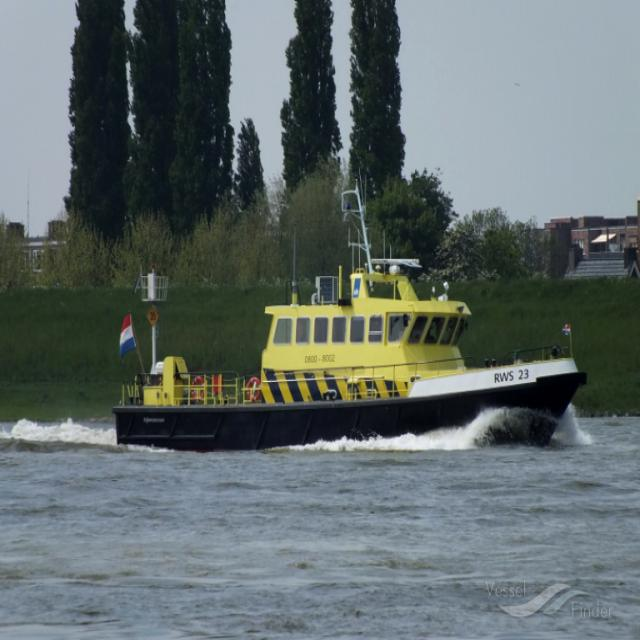OCR: (491, 365, 532, 389)
